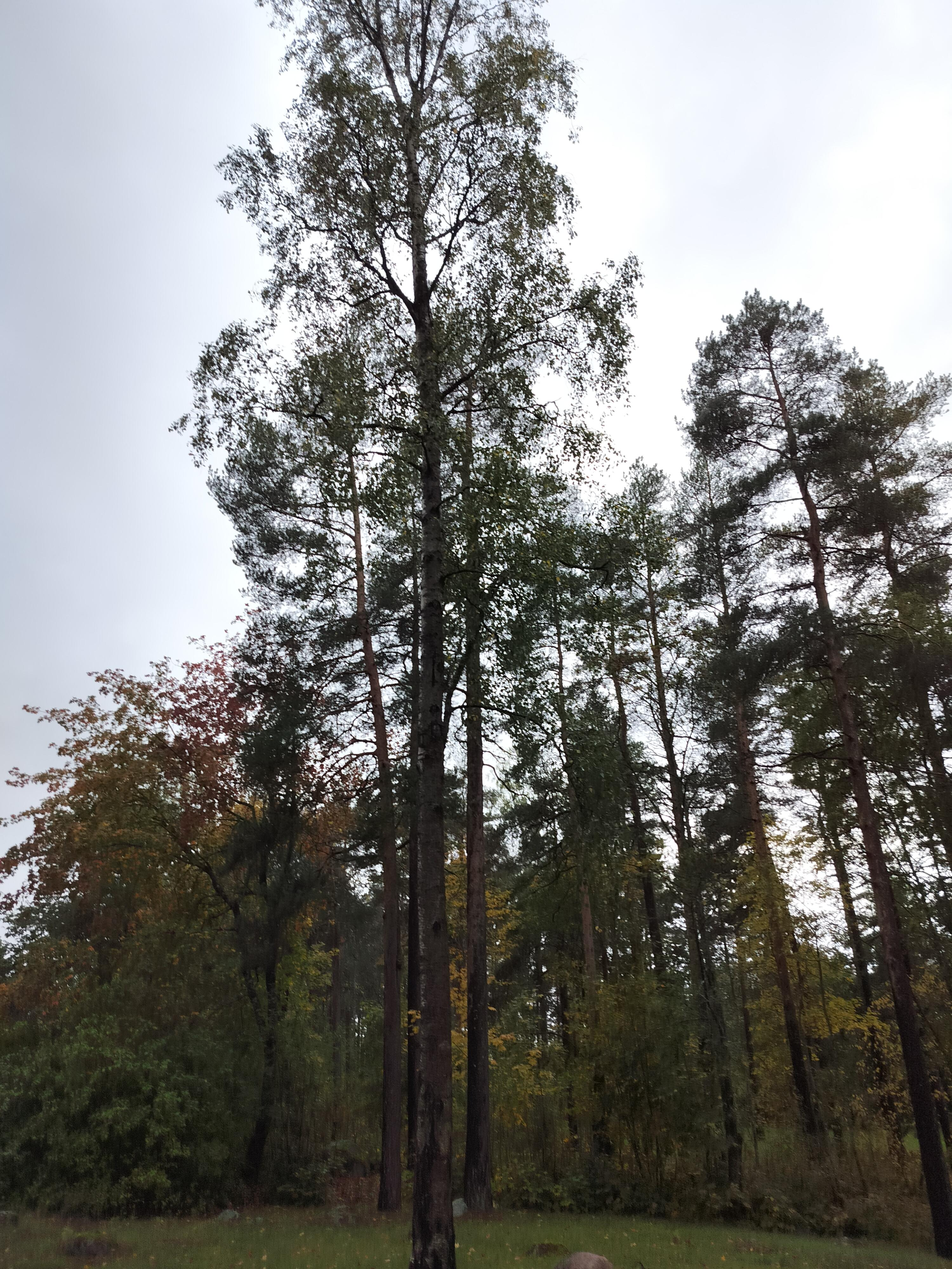Birch: (175, 1, 645, 1265), (675, 288, 950, 1257)
